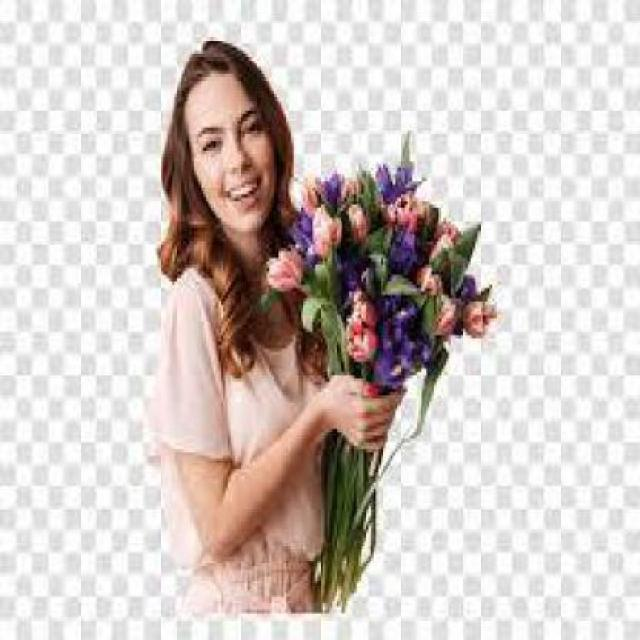flower: (271, 156, 487, 387)
